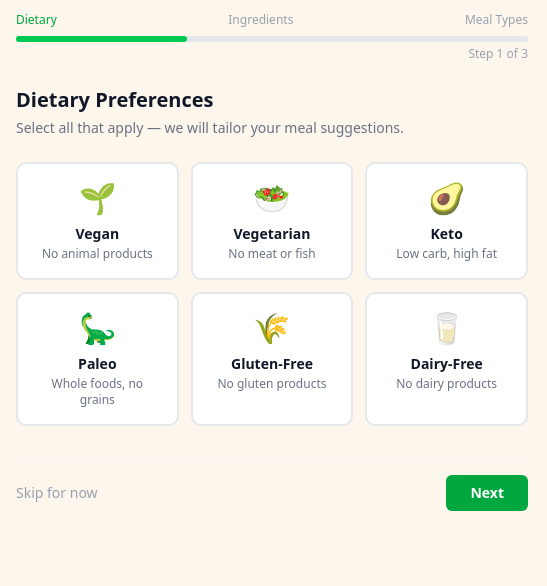
it: OnboardingWizard › shows Finish label on last step instead of Next
Step 1. Click the button "Next" → coordinates (487, 493), box [446,475,528,511]
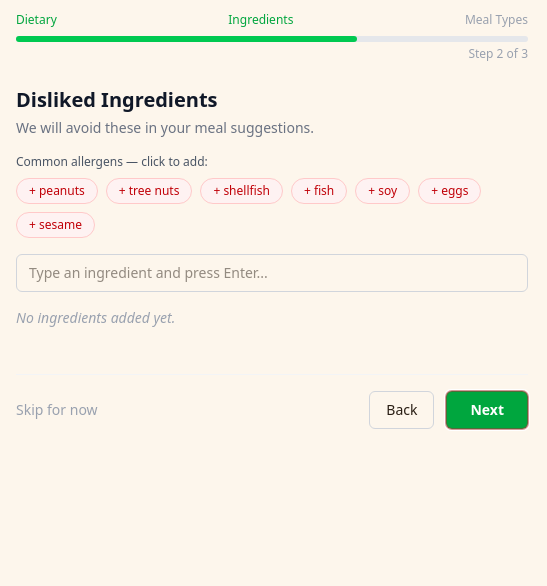
Step 2. Click the button "Next" → coordinates (487, 410), box [446,391,528,429]
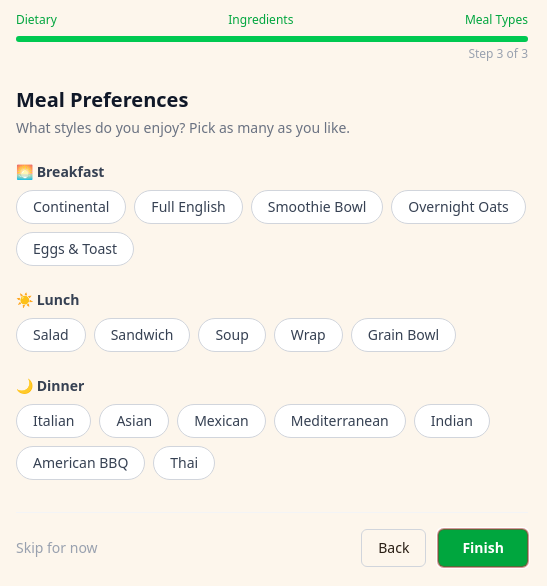
Check: the button "Finish" is shown, box [438,529,528,567]
Check: the button "Next" is gone
